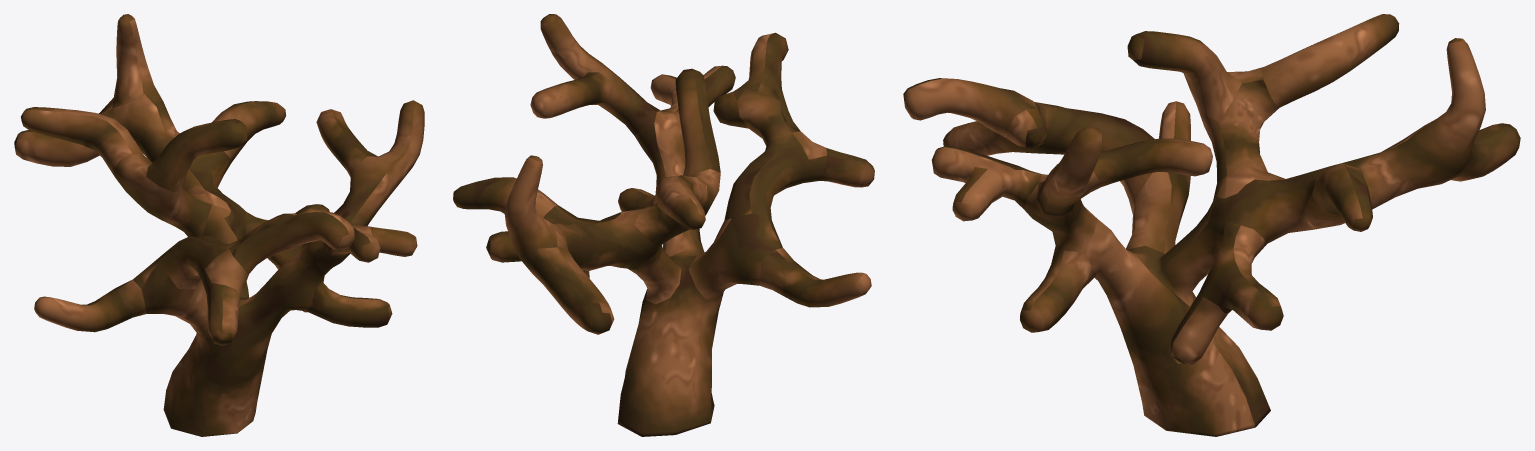
Rendered from Tree.fbx.
The picture shows the model from 3 angles, left to right: view 1: azimuth 30°, elevation 25°; view 2: azimuth 150°, elevation 25°; view 3: azimuth 270°, elevation 25°; orthographic projection. The views are drawn at different scales.
Parts seen in each view (by area): view 1: tree.001_Plane.002; view 2: tree.001_Plane.002; view 3: tree.001_Plane.002.
Boxes of the visible parts, x1,y1,x2,y2 form: tree.001_Plane.002: (14, 14, 424, 436); tree.001_Plane.002: (453, 14, 874, 436); tree.001_Plane.002: (903, 14, 1520, 436).
Size of the model in its own units: 382 by 333 by 480.
